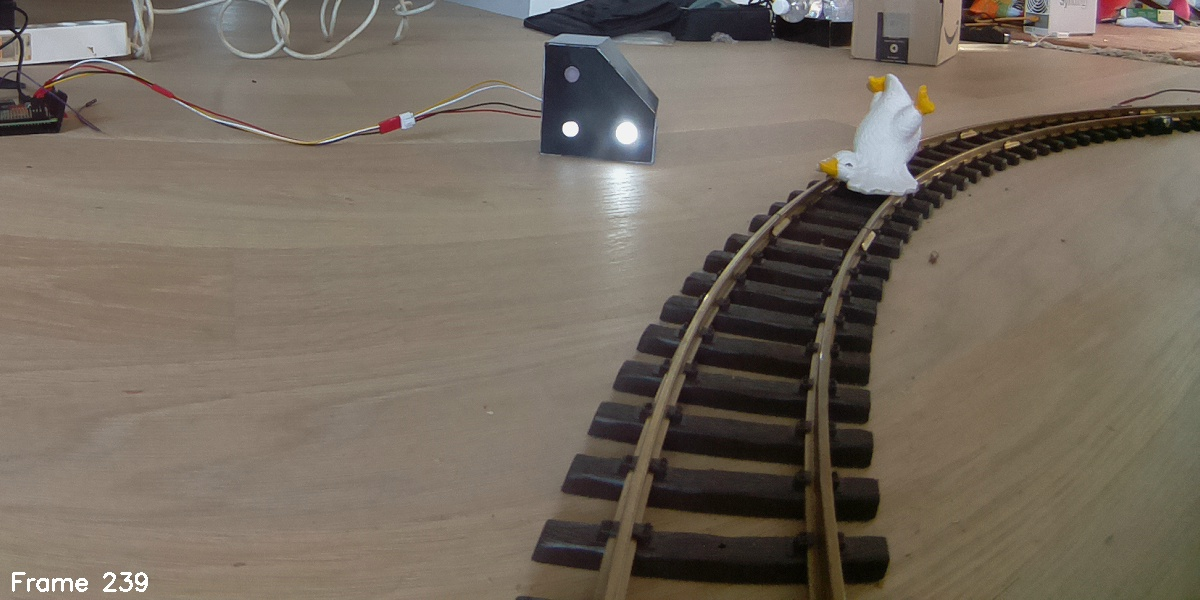Ente: (814, 70, 943, 202)
Halt: (544, 35, 657, 165)
